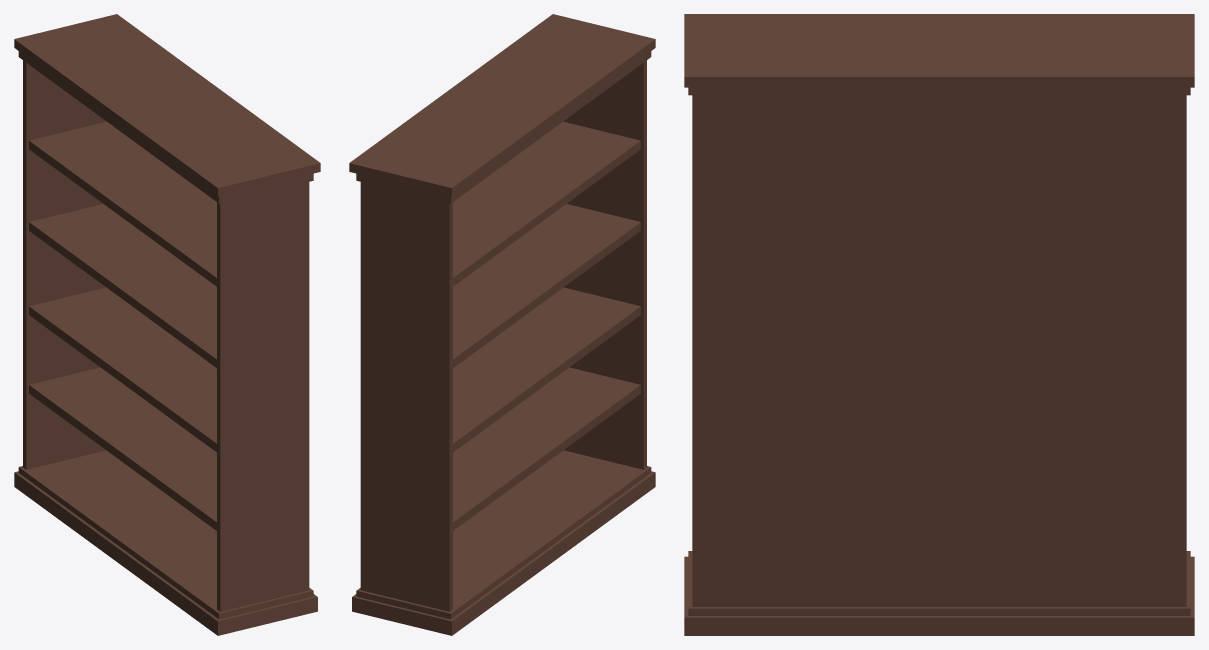
3 renders of one model, left to right at view 1: azimuth 30°, elevation 25°; view 2: azimuth 150°, elevation 25°; view 3: azimuth 270°, elevation 25°, orthographic. The views are drawn at different scales.
Parts seen in each view (by area): view 1: node_MeshObject-2038833152-PolyPaper21; view 2: node_MeshObject-2038833152-PolyPaper21; view 3: node_MeshObject-2038833152-PolyPaper21.
Part boxes in pixels (x1,y1,x2,y2): node_MeshObject-2038833152-PolyPaper21: (14, 14, 320, 635); node_MeshObject-2038833152-PolyPaper21: (349, 14, 655, 635); node_MeshObject-2038833152-PolyPaper21: (684, 14, 1194, 635).
Size of the model in its own units: 0.37 by 1.54 by 1.27.
